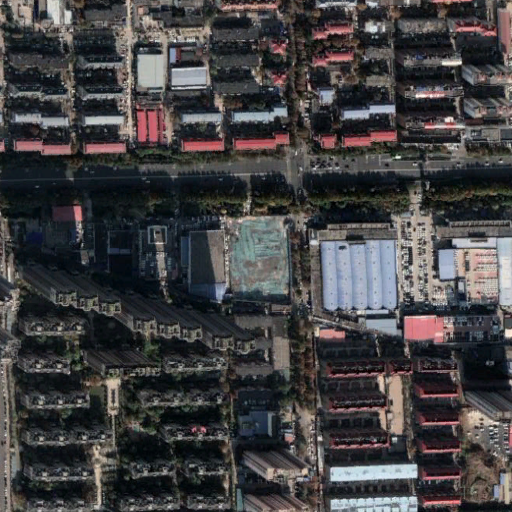cw: (226, 219, 289, 305)
